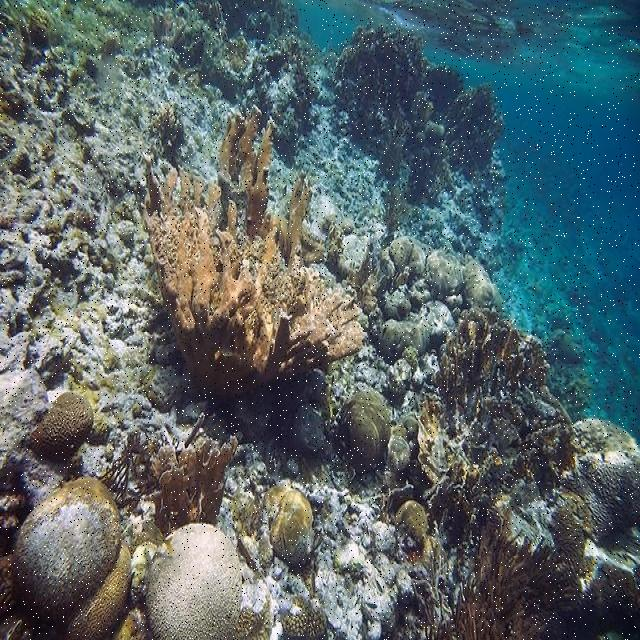fish: (142, 518, 173, 554), (130, 541, 166, 568)
reefs: (389, 307, 639, 638), (141, 103, 368, 396), (325, 236, 509, 489), (0, 477, 274, 639), (143, 435, 239, 536), (231, 477, 316, 574), (26, 392, 94, 461)
